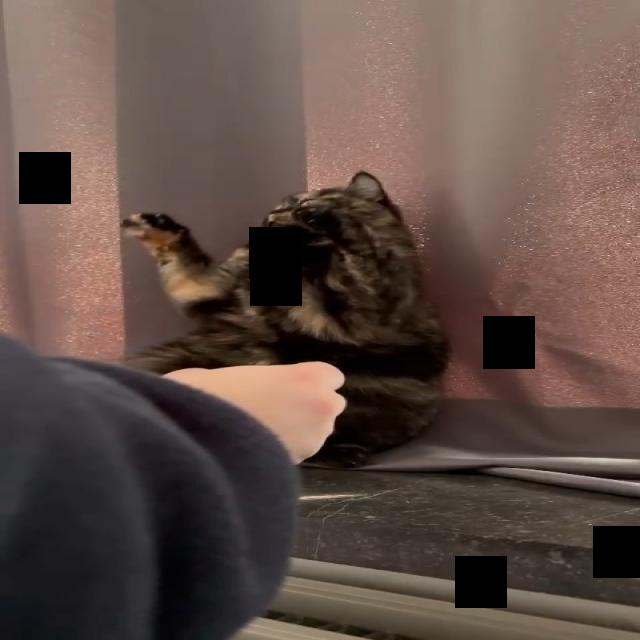authorized: (117, 169, 452, 469)
